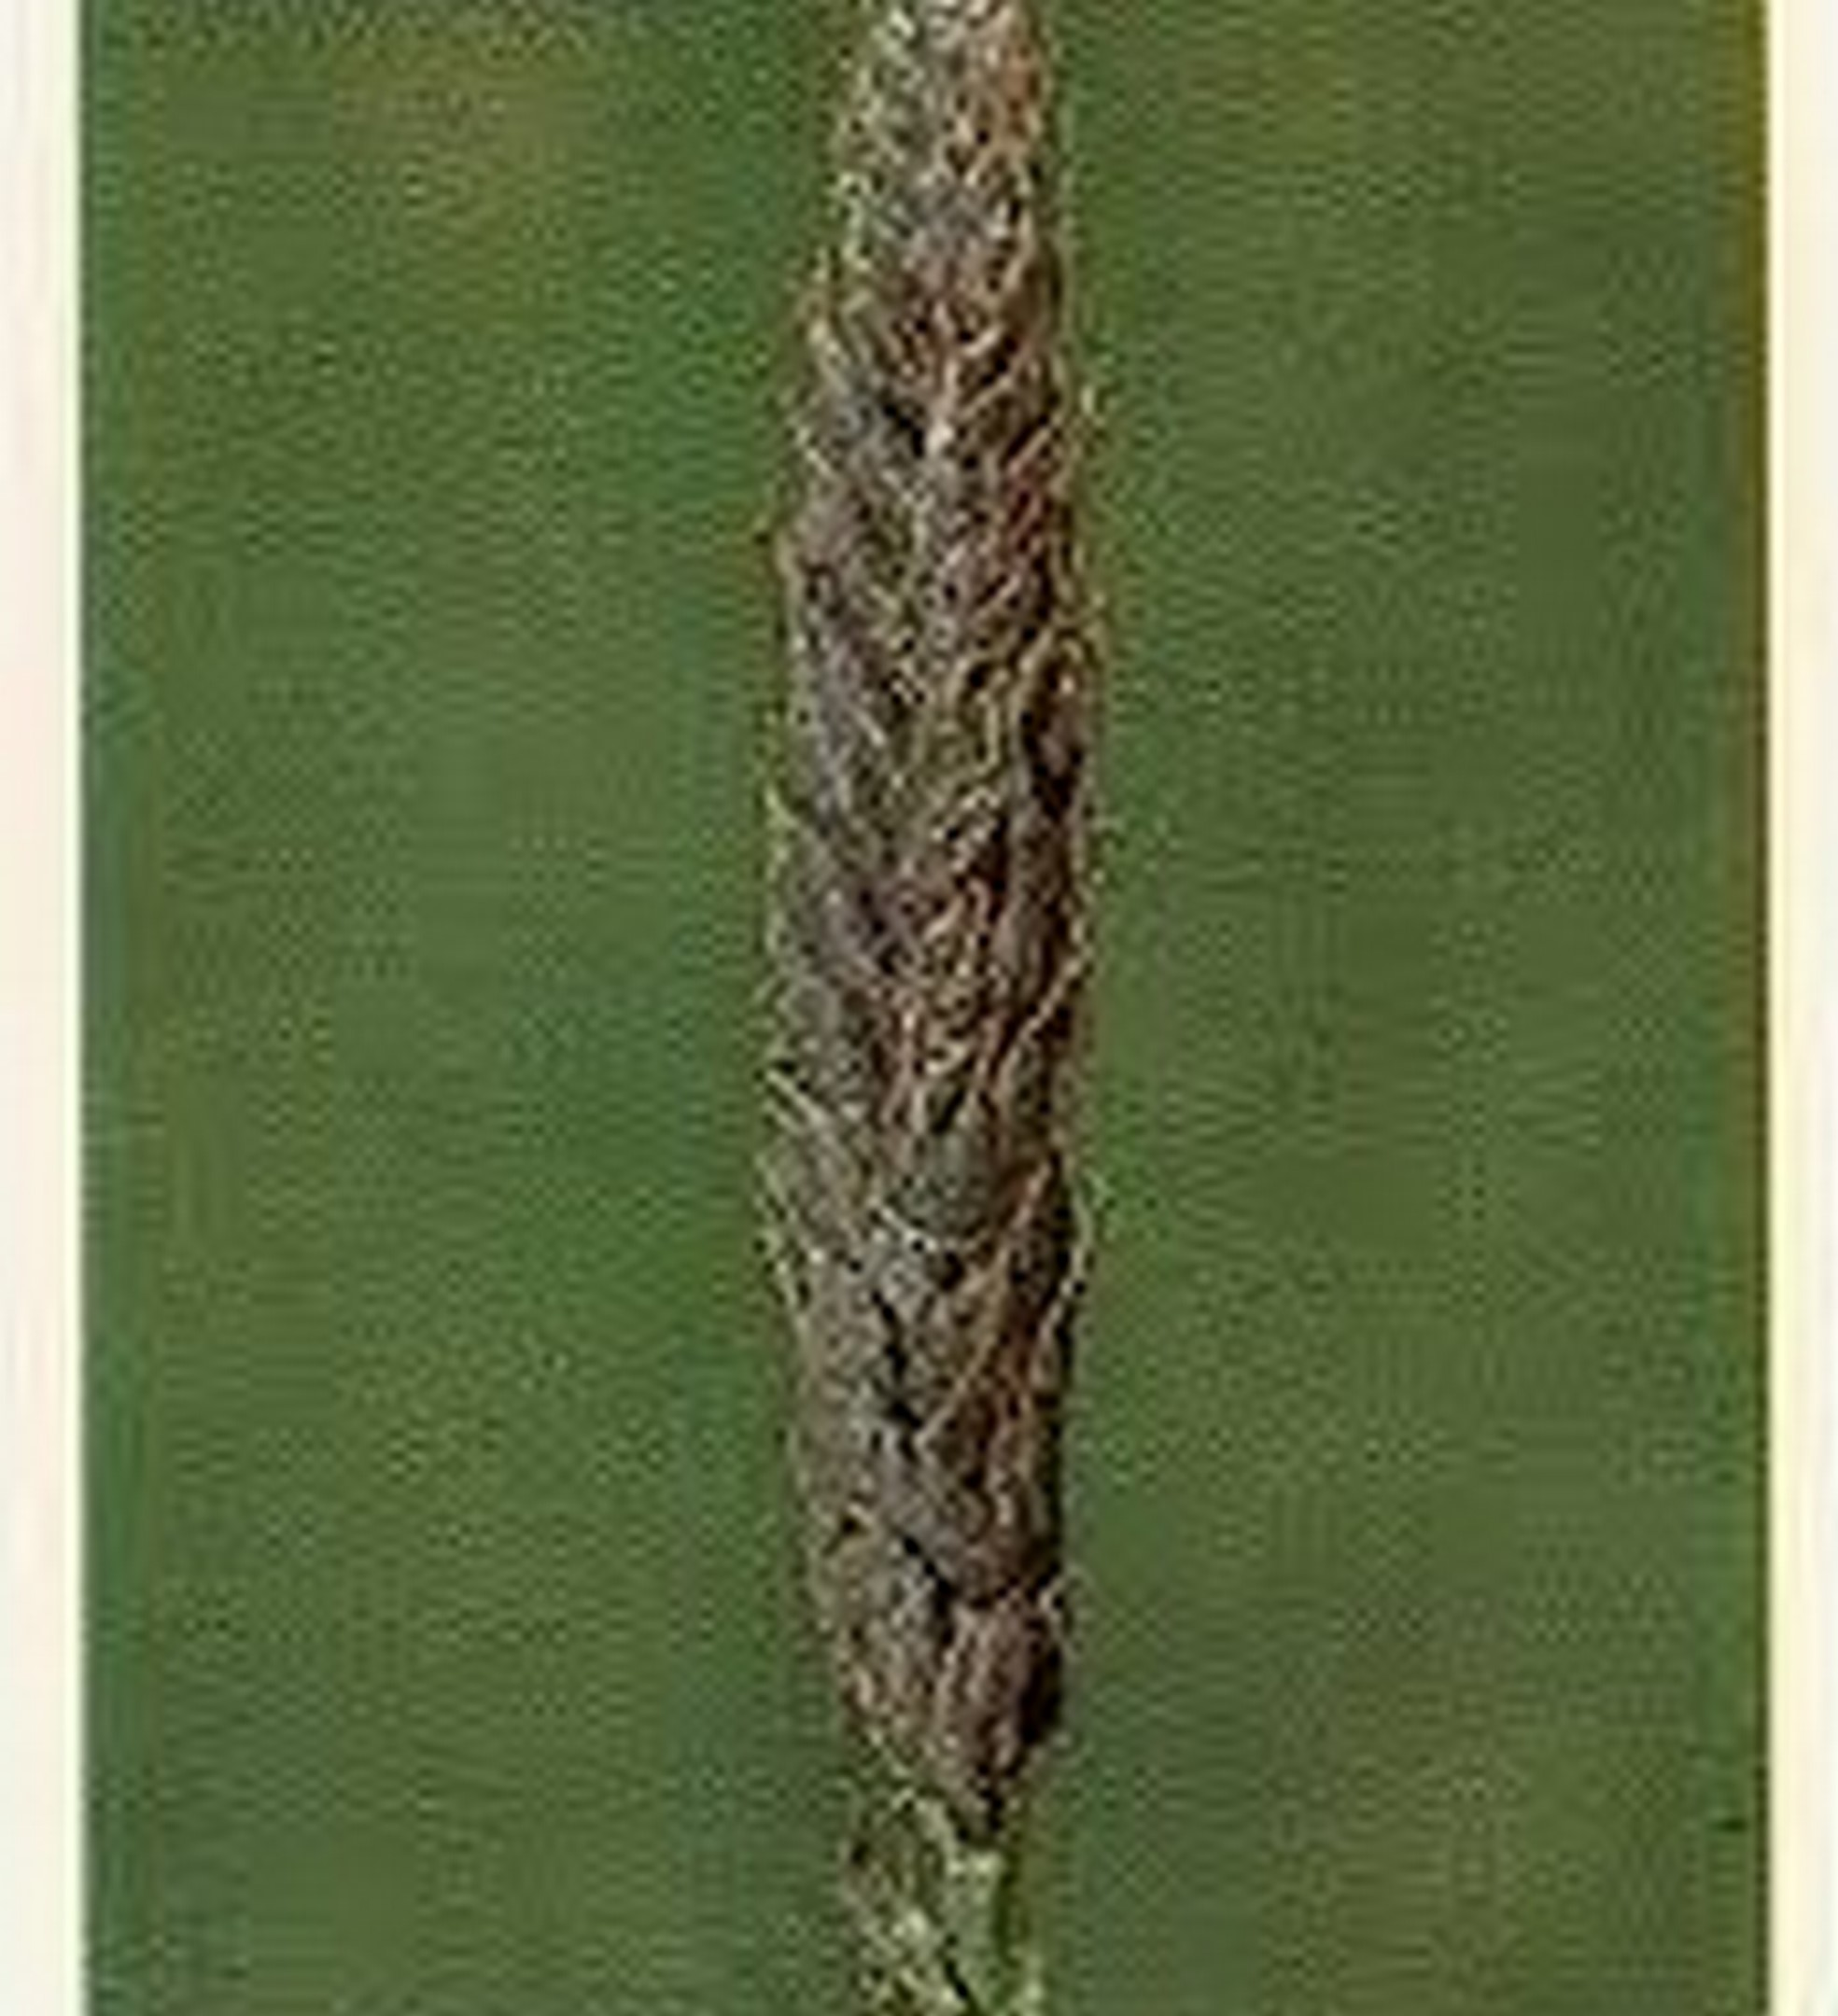Wheat Loose Smut: (703, 70, 1176, 1893)
